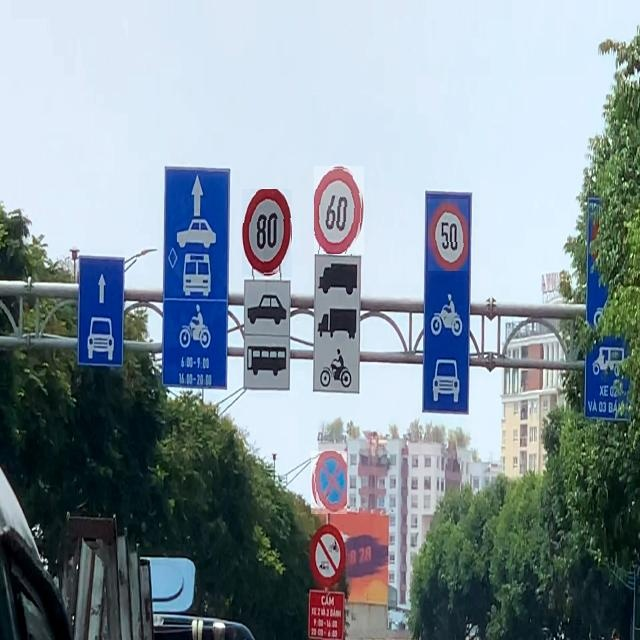bien_cam: (242, 189, 292, 277), (314, 166, 364, 254), (428, 199, 468, 271), (311, 451, 347, 514)
